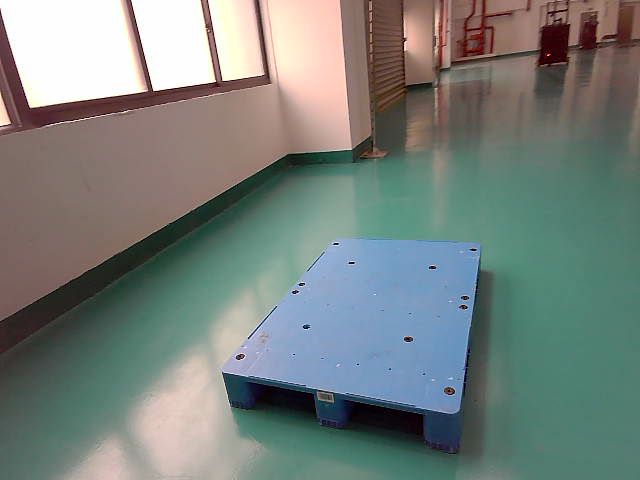block: (425, 408, 459, 452), (311, 386, 344, 431), (220, 369, 253, 409)
front: (223, 372, 458, 453)
hole pallet: (344, 402, 425, 445), (249, 383, 319, 420)
